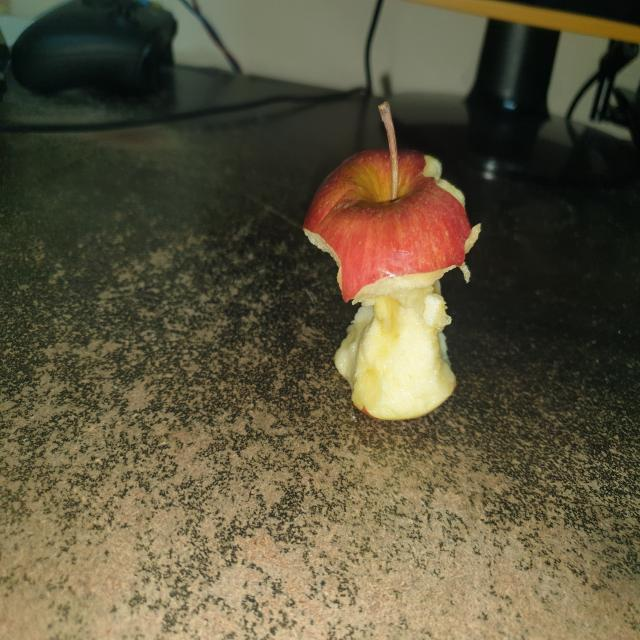apple: (286, 91, 489, 428)
